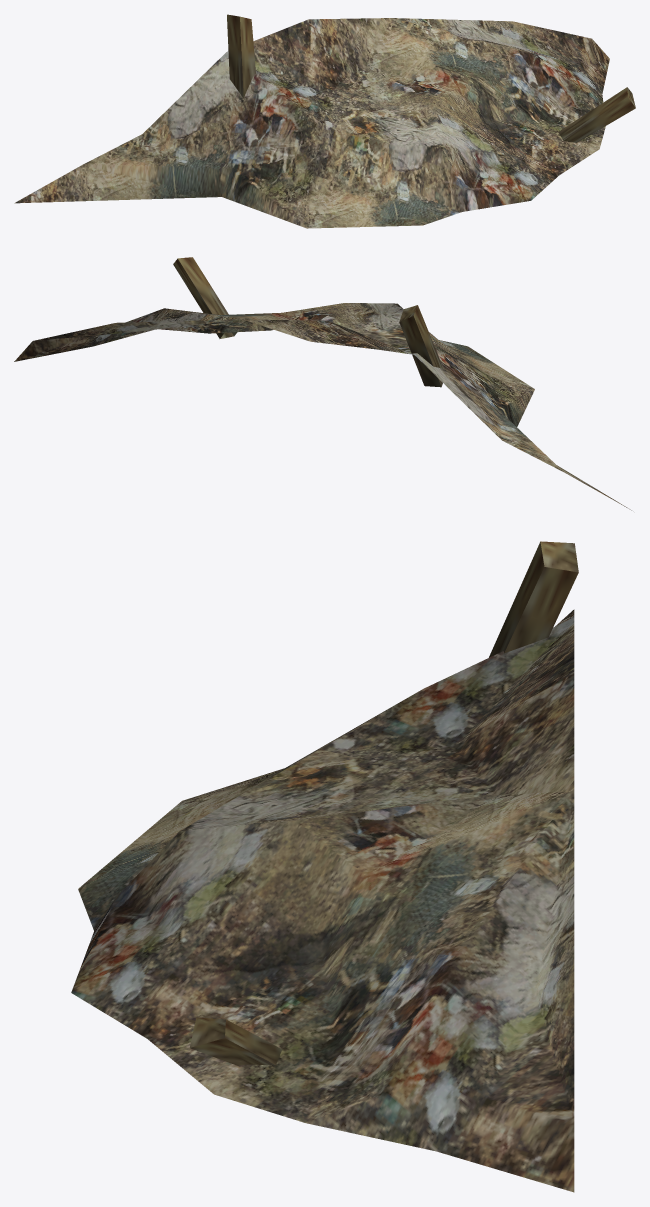
The model's file is wtrsh2.glb.
The picture shows the model from 3 angles, top to bottom: view 1: azimuth 30°, elevation 25°; view 2: azimuth 150°, elevation 25°; view 3: azimuth 270°, elevation 25°; orthographic projection. The views are drawn at different scales.
Parts seen in each view (by area): view 1: _wtrsh2; view 2: _wtrsh2; view 3: _wtrsh2.
Part boxes in pixels (left/top/right/bottom): _wtrsh2: left=14, top=14, right=635, bottom=228; _wtrsh2: left=14, top=257, right=631, bottom=510; _wtrsh2: left=71, top=541, right=578, bottom=1192.
Bounding box in the file's own units: 2.67 × 0.6144 × 0.9844.
1 material, 1 textured.
